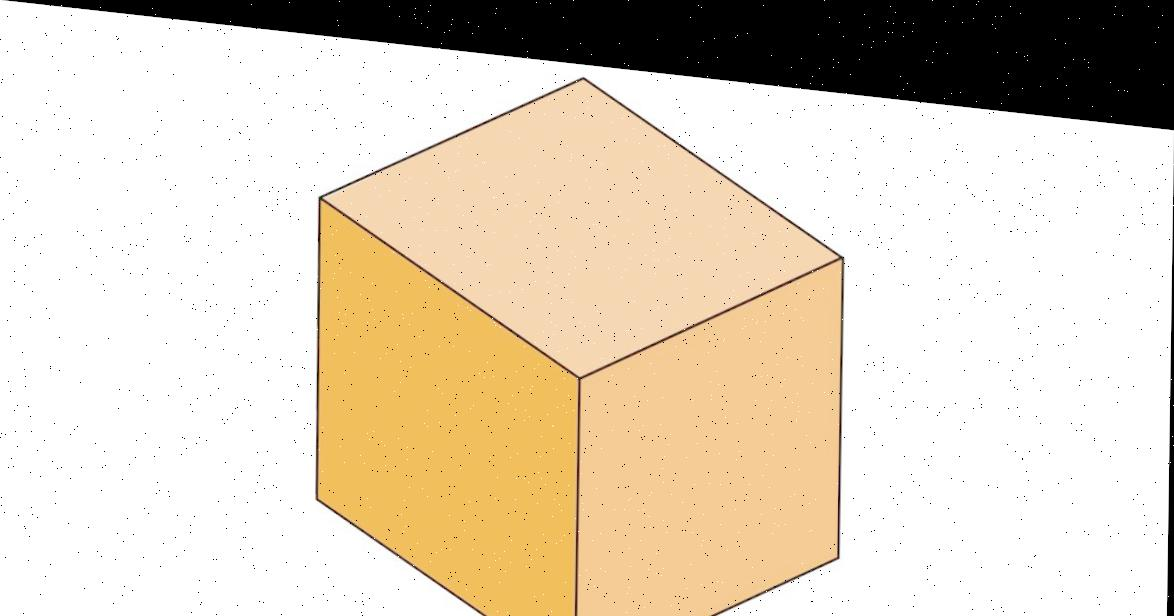cube: (285, 38, 883, 616)
